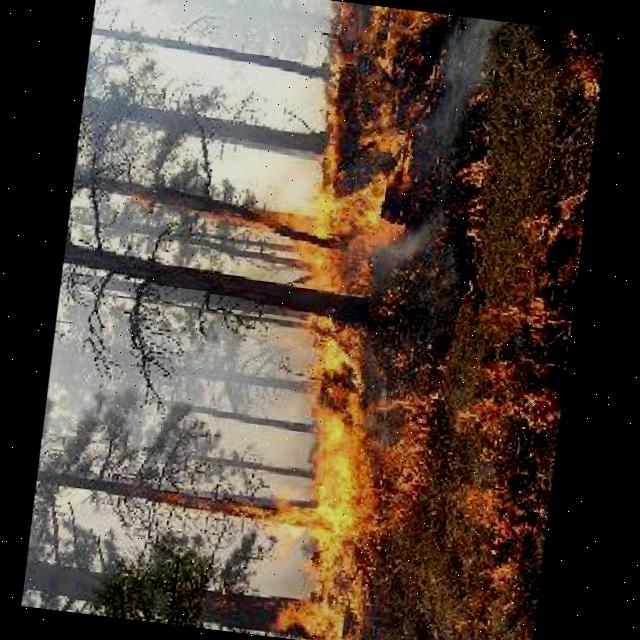fire: (208, 321, 565, 640), (440, 190, 584, 546), (281, 0, 429, 259), (212, 151, 392, 297)
